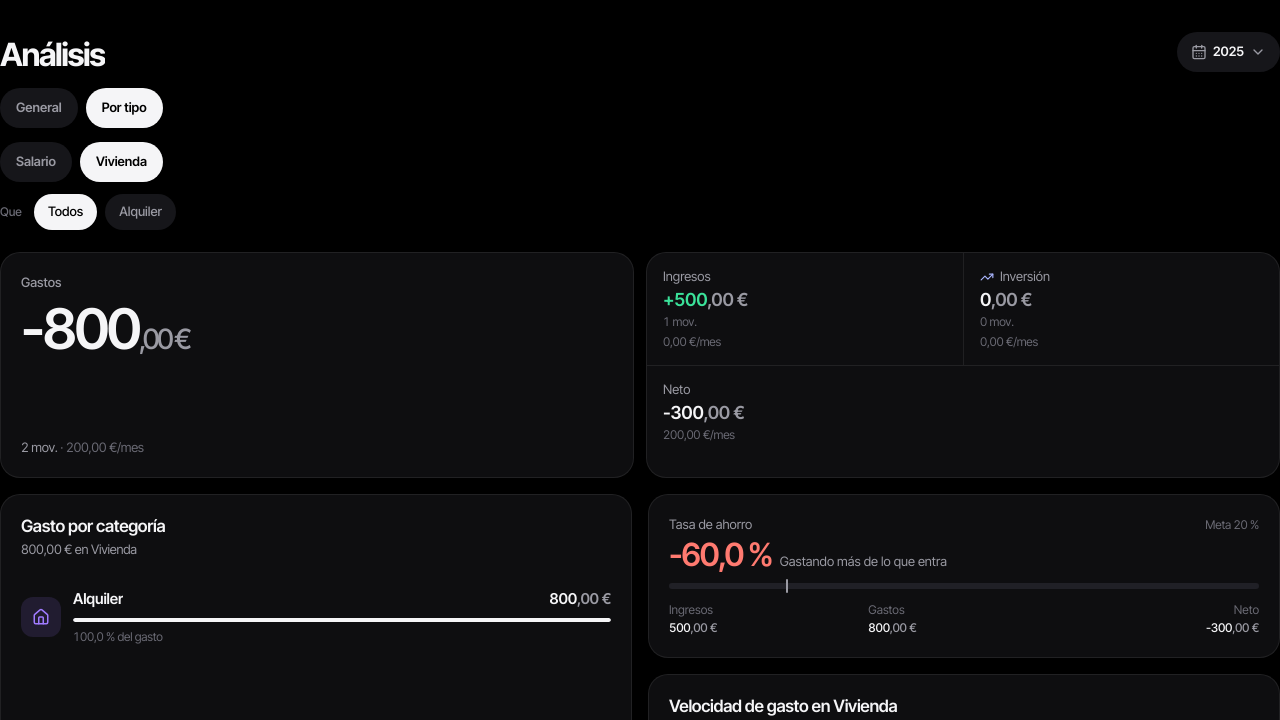
Test case: TipoPageContent › keeps the full year list visible after a year is selected
Click the button named "Periodo": click(1228, 52) [1177,32,1279,72]
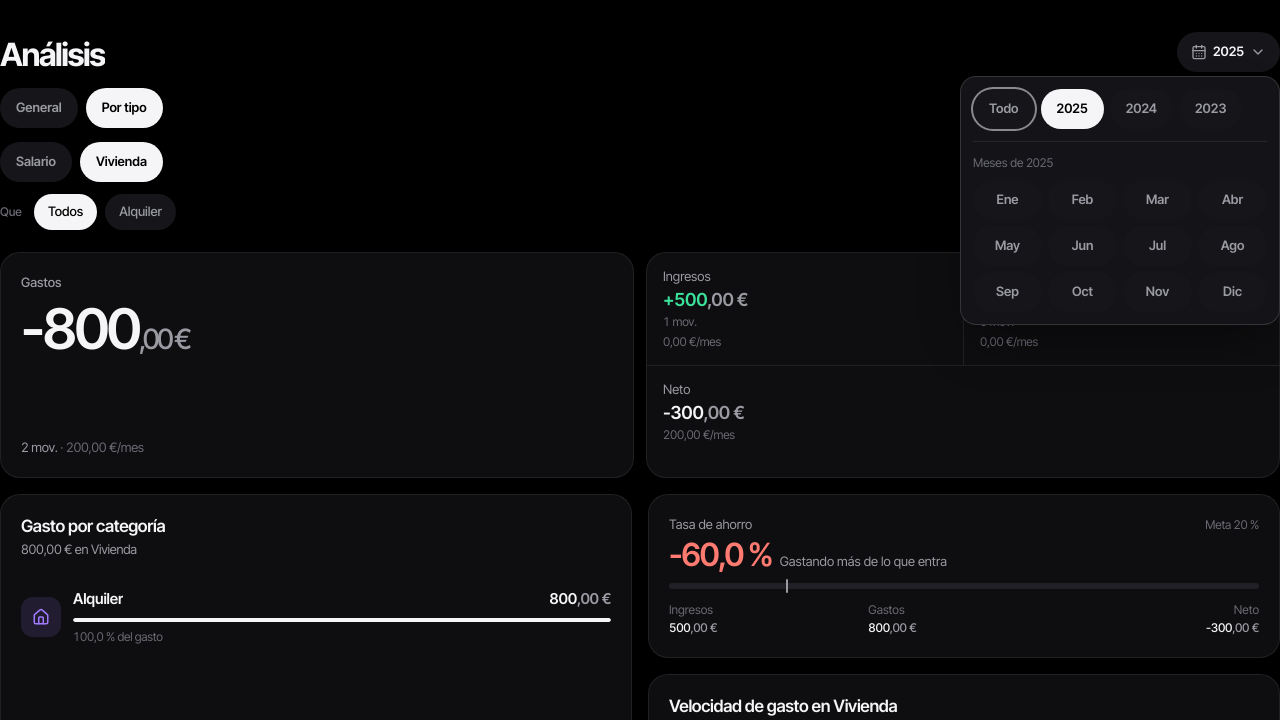
Expected: the 2nd button "2025" is shown, [1040,89,1104,129]
Expected: the button "2024" is shown, [1110,89,1173,129]
Expected: the button "2023" is shown, [1179,89,1242,129]
